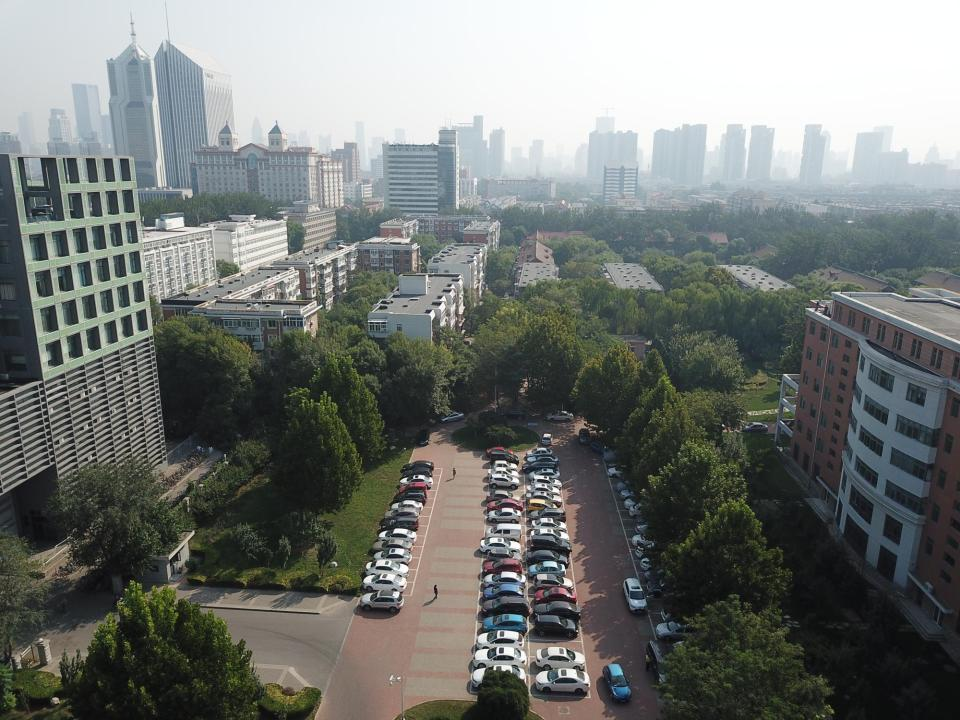car: (535, 668, 591, 694), (471, 665, 526, 690), (534, 647, 586, 671), (473, 646, 527, 669), (655, 620, 709, 642), (622, 578, 654, 614), (661, 601, 711, 624), (481, 596, 531, 619), (602, 664, 631, 702), (481, 613, 528, 636), (534, 614, 579, 638), (360, 590, 404, 613), (476, 630, 524, 651), (533, 601, 581, 621), (672, 639, 722, 658), (361, 573, 407, 593), (365, 559, 409, 579), (534, 587, 577, 606), (482, 571, 527, 589), (532, 573, 574, 592), (526, 549, 570, 567), (646, 576, 689, 594), (480, 537, 522, 555), (527, 560, 566, 579), (483, 584, 524, 602), (483, 558, 523, 576), (372, 548, 412, 566), (371, 538, 413, 555), (640, 556, 682, 572), (635, 542, 673, 559), (528, 507, 566, 524), (525, 490, 563, 507), (486, 548, 523, 565), (530, 517, 567, 534), (377, 528, 416, 544), (644, 567, 685, 582), (631, 532, 671, 547), (529, 528, 570, 542), (487, 508, 522, 524), (486, 498, 523, 513), (522, 459, 558, 474), (384, 507, 420, 522), (393, 490, 428, 505), (526, 483, 560, 498), (399, 474, 433, 489), (628, 501, 655, 519), (527, 499, 559, 514), (488, 474, 520, 489), (531, 475, 562, 490), (616, 478, 649, 492), (635, 521, 670, 534), (486, 490, 521, 503), (607, 465, 639, 479), (391, 499, 423, 513), (635, 512, 670, 524), (588, 441, 614, 457), (624, 496, 656, 509), (528, 468, 560, 481), (488, 467, 520, 480), (620, 487, 650, 500), (398, 483, 428, 496), (402, 467, 432, 480), (402, 461, 434, 472), (741, 421, 768, 434), (603, 450, 631, 462), (486, 446, 514, 458), (526, 454, 559, 464), (439, 411, 464, 424), (491, 460, 518, 472), (545, 410, 573, 421), (501, 408, 526, 420), (526, 447, 553, 458), (416, 429, 430, 446), (578, 428, 592, 445), (541, 433, 553, 446)
van: (646, 640, 678, 689), (530, 535, 572, 555), (379, 515, 419, 533), (485, 523, 522, 542), (490, 450, 519, 466)
